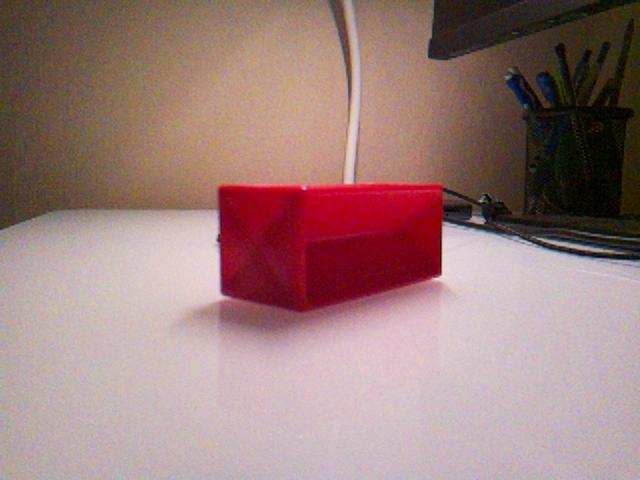red: (216, 181, 445, 312)
